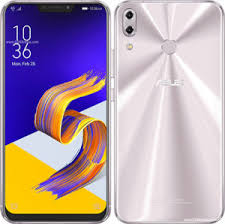asus: (113, 1, 225, 224), (1, 1, 111, 222)
